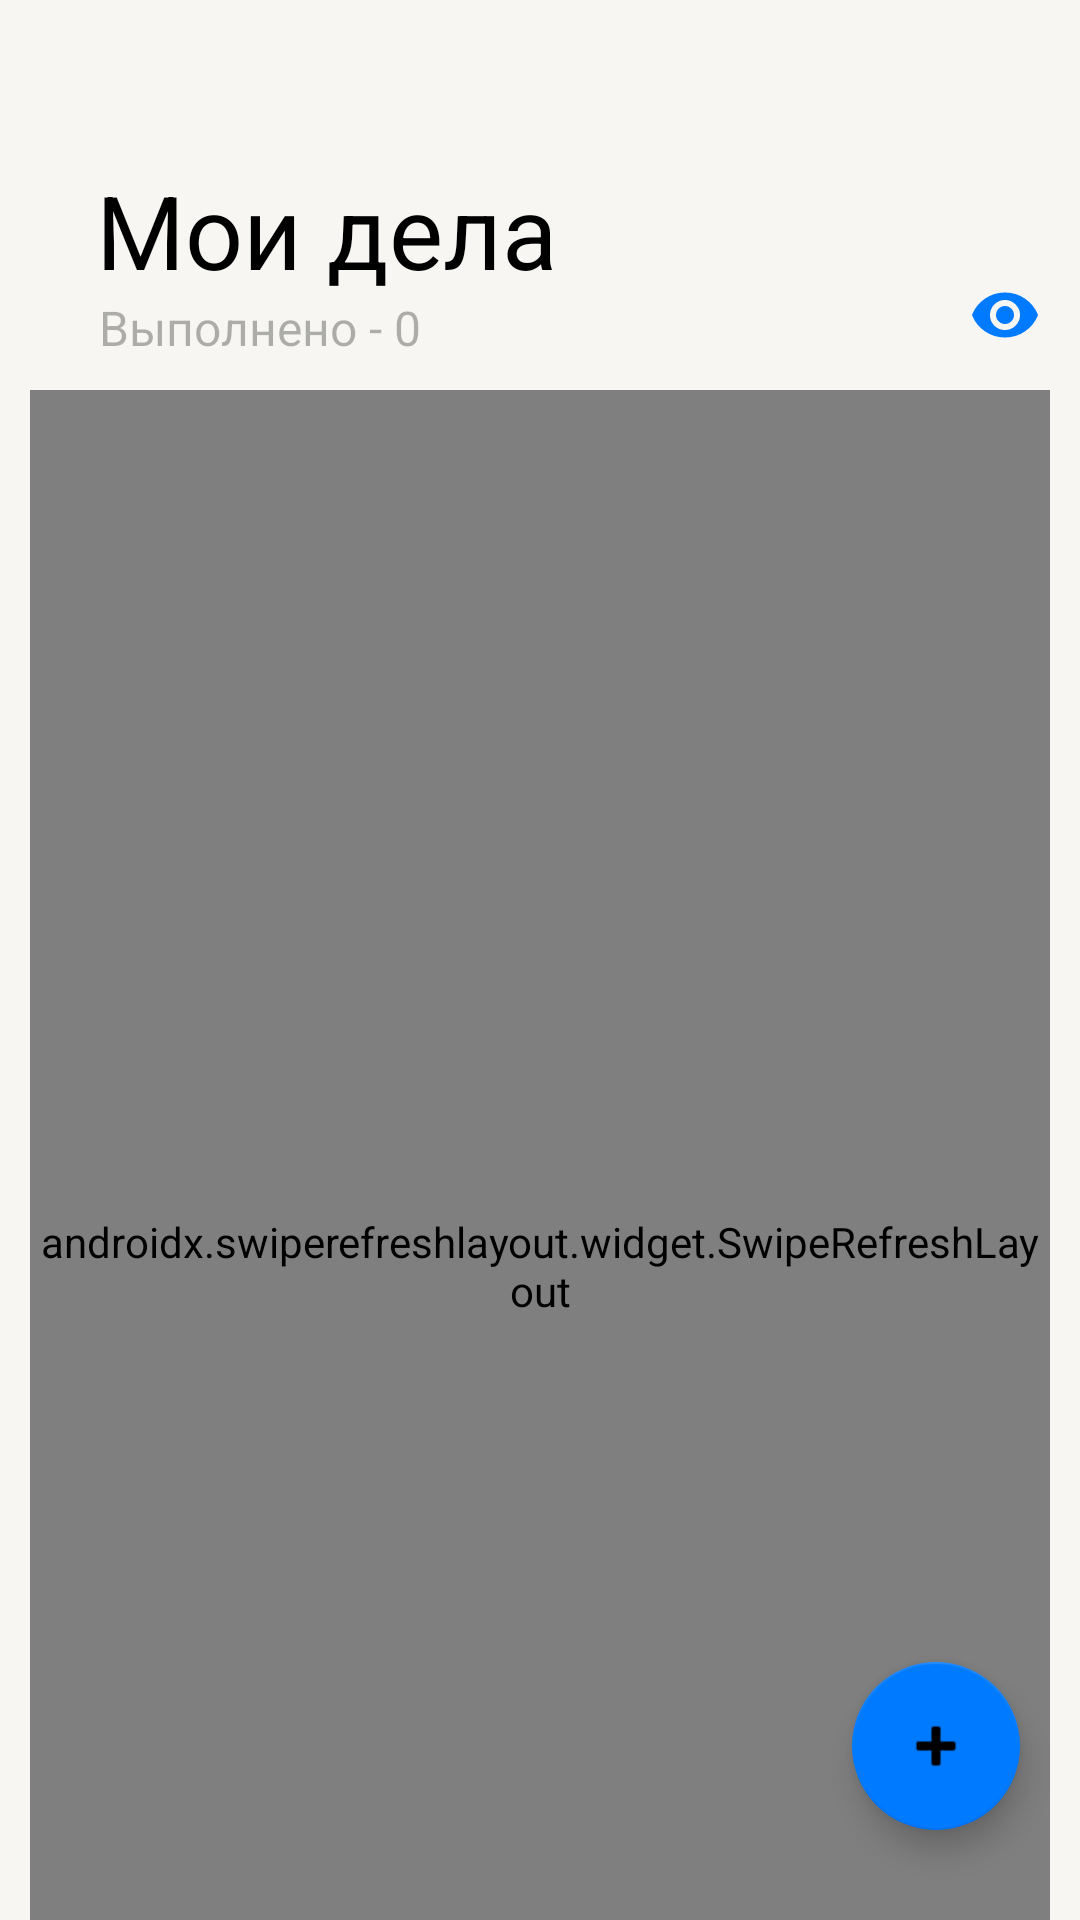

Icons on this 1080 x 1920 Android screen, each with the point to tap as (x,y):
visibility: (1005,315)
